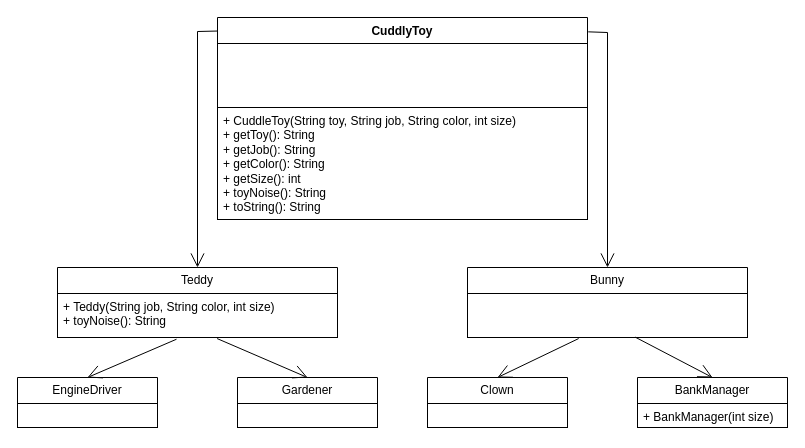
The diagram is 805 pixels wide and 448 high, and some of its shapes have lost their labels. The shapes that lost their labels are listed below. From the top down, each one's centre as x and y in pixels, then its label:
At point (402, 75): "- toy: String - job: String - color: String - size: int".
At point (607, 315): "+ Bunny(String job, String color, int size) + toyNoise(): String".
At point (87, 415): "+ EngineDriver(int size)".
At point (307, 415): "+ Gardener (int size)".
At point (497, 415): "+ Clown (int size)".
